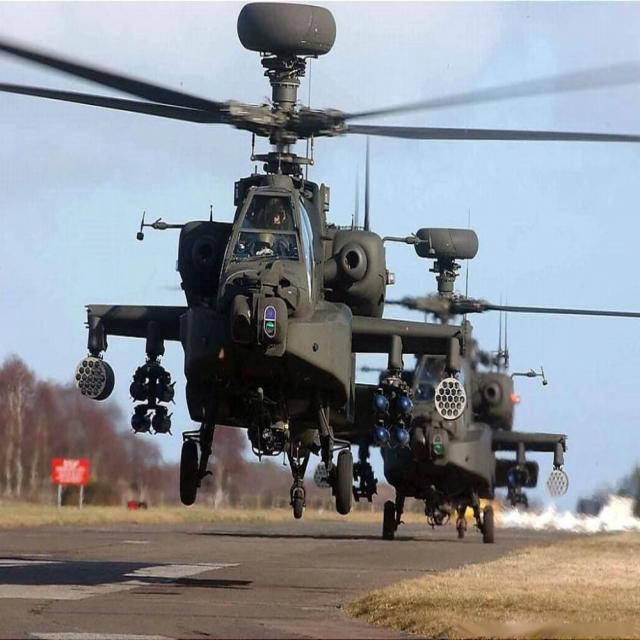MIL_HELO: (0, 0, 640, 513), (320, 204, 640, 548)
